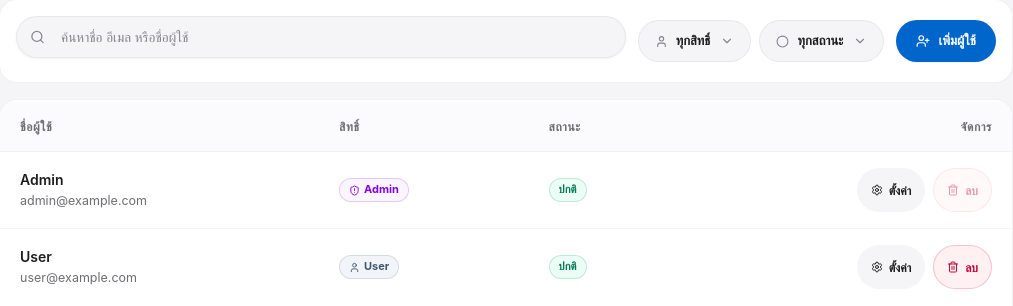
Scenario: UserManagement — delete › surfaces the API refusal and keeps the row
Click the button "ลบ" in the row of "user@example.com" at point(963, 267), box x1=933 y1=245 x2=992 y2=289
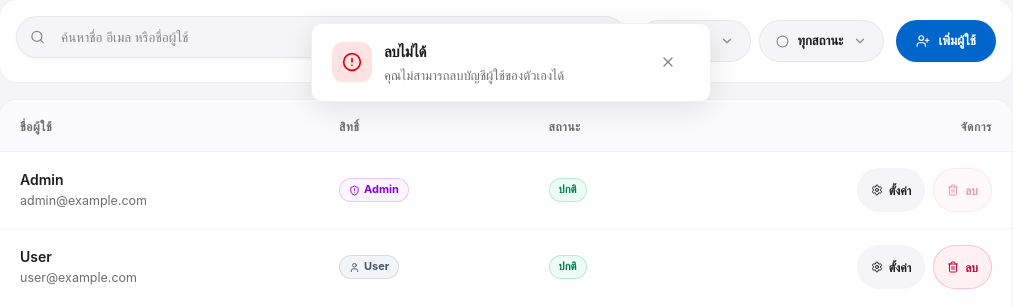
Expected: the text "user@example.com" is shown, x1=20 y1=270 x2=137 y2=285
Now the text "ลบไม่ได้" is shown, box x1=384 y1=42 x2=426 y2=61
Now the text "คุณไม่สามารถลบบัญชีผู้ใช้ของตัวเองได้" is shown, box x1=384 y1=67 x2=564 y2=83
